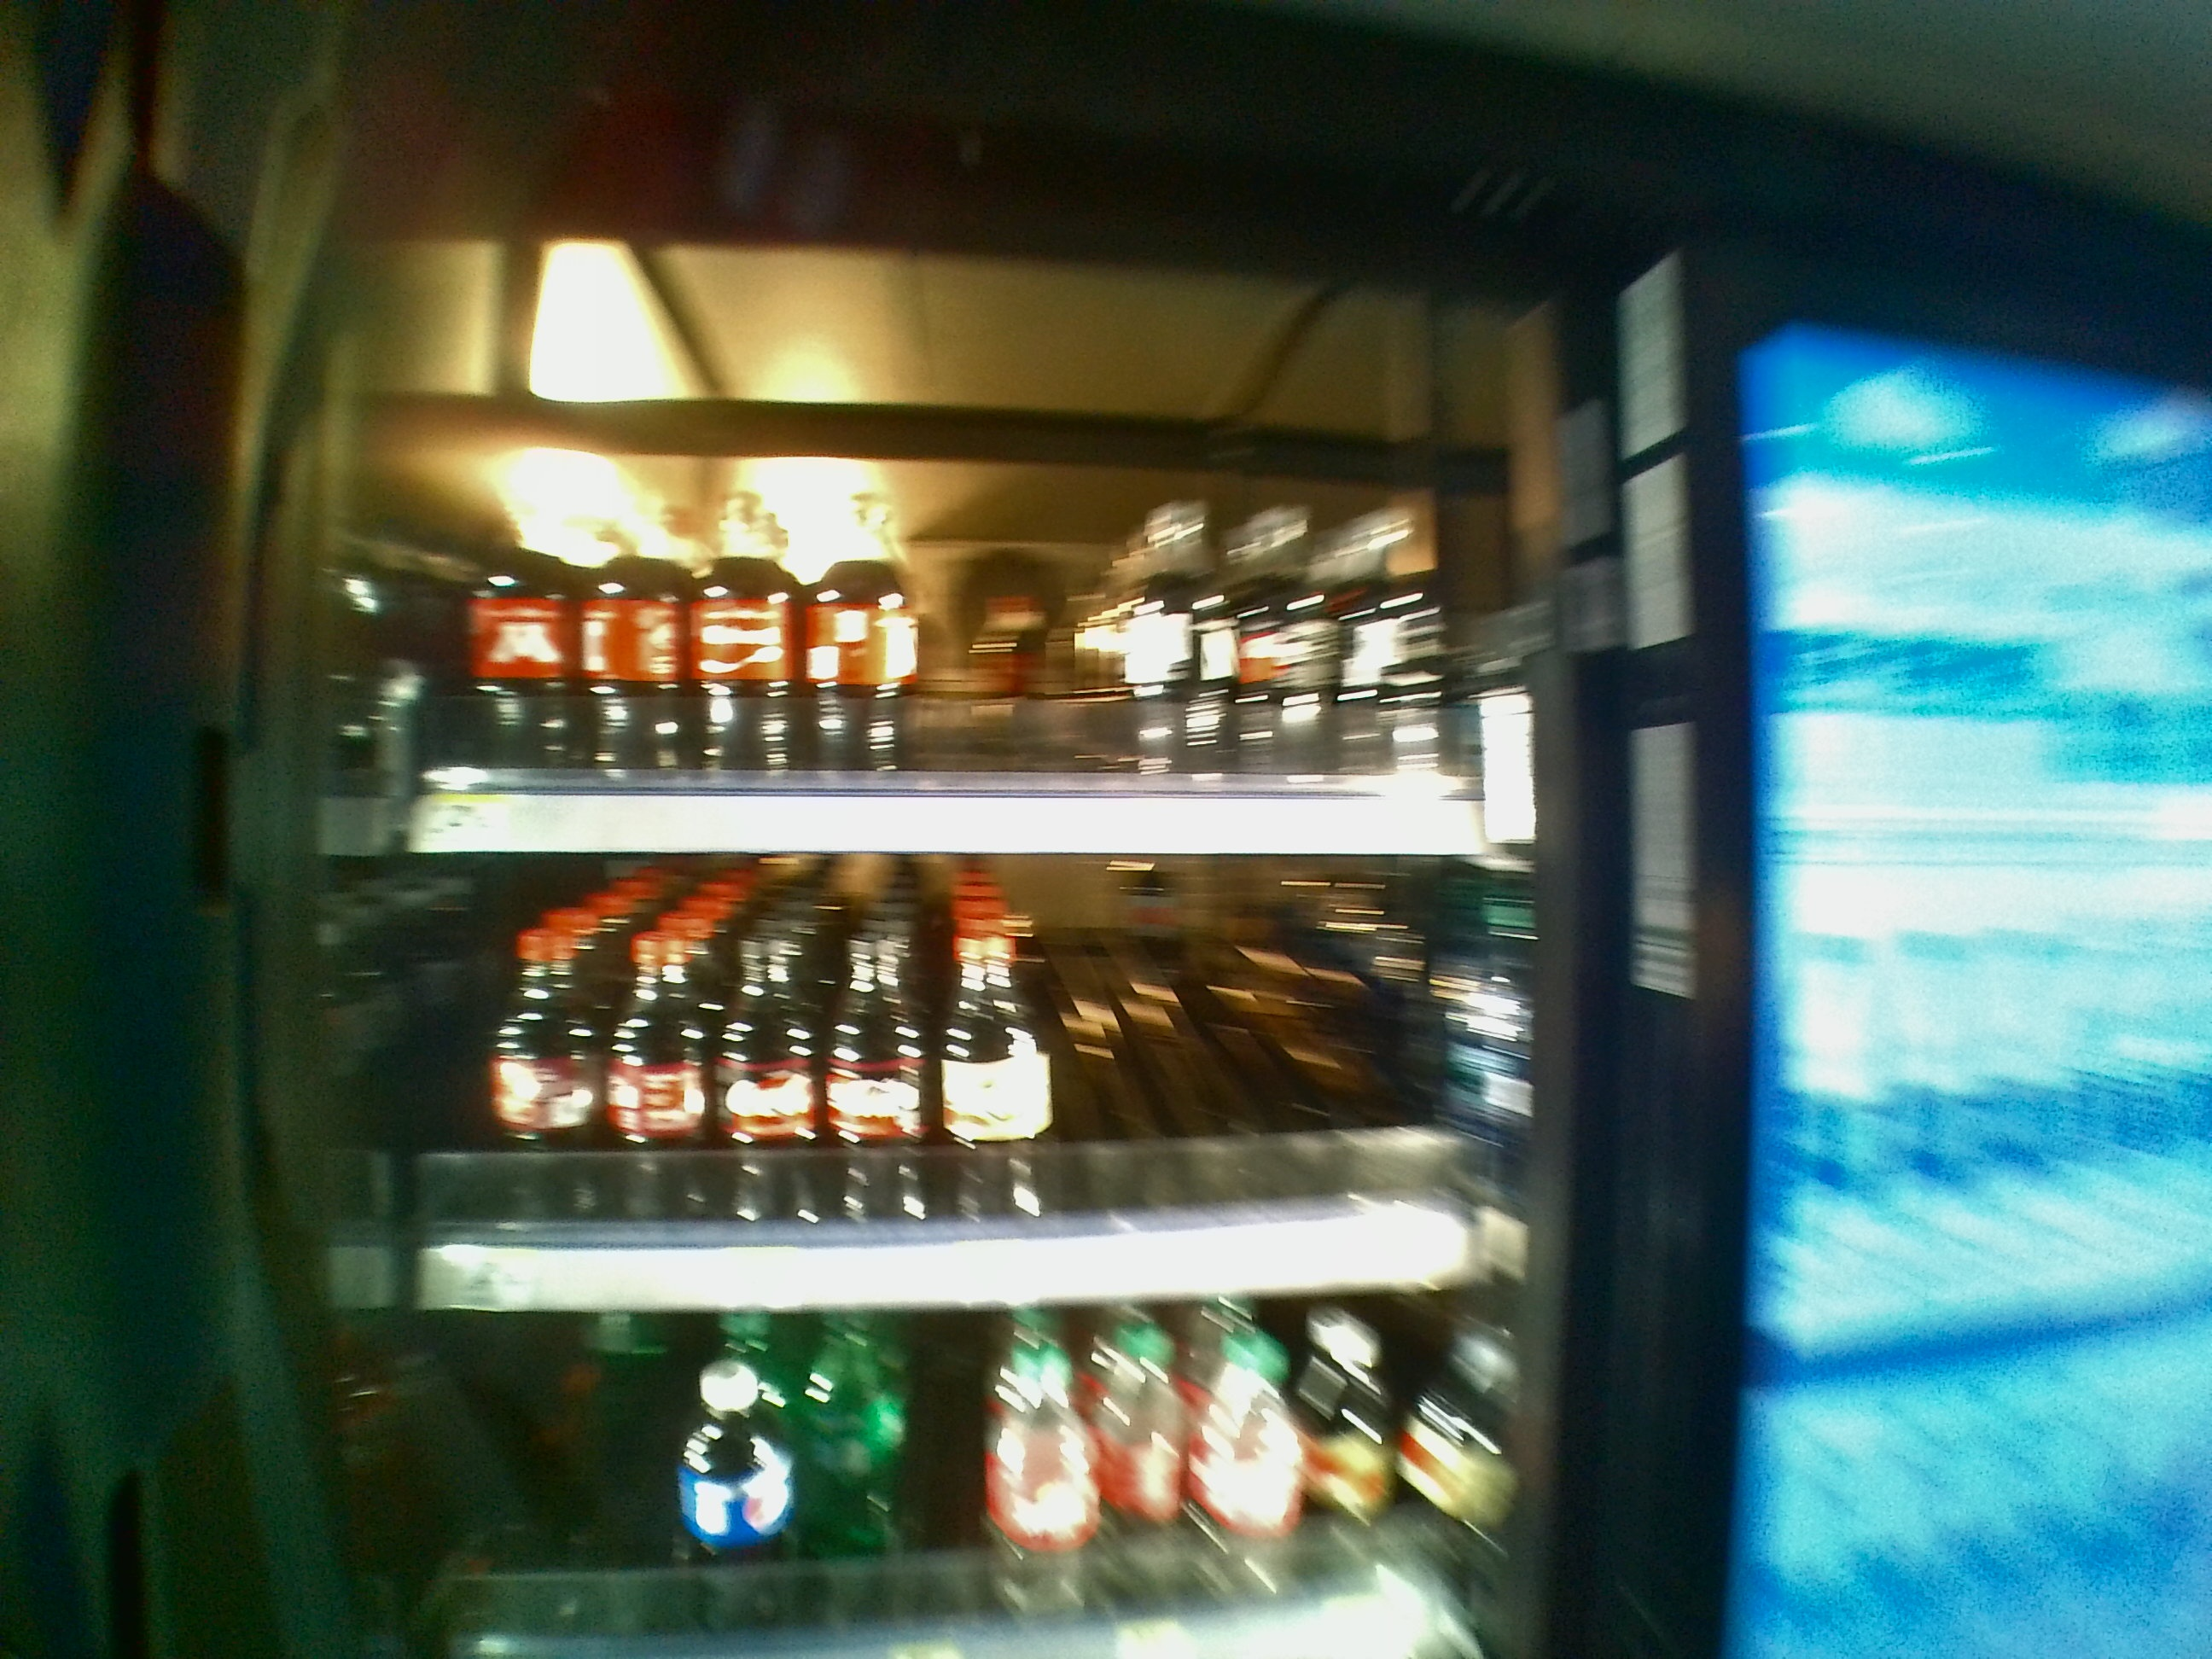shelf: (404, 362, 1498, 859), (409, 873, 1505, 1309)
